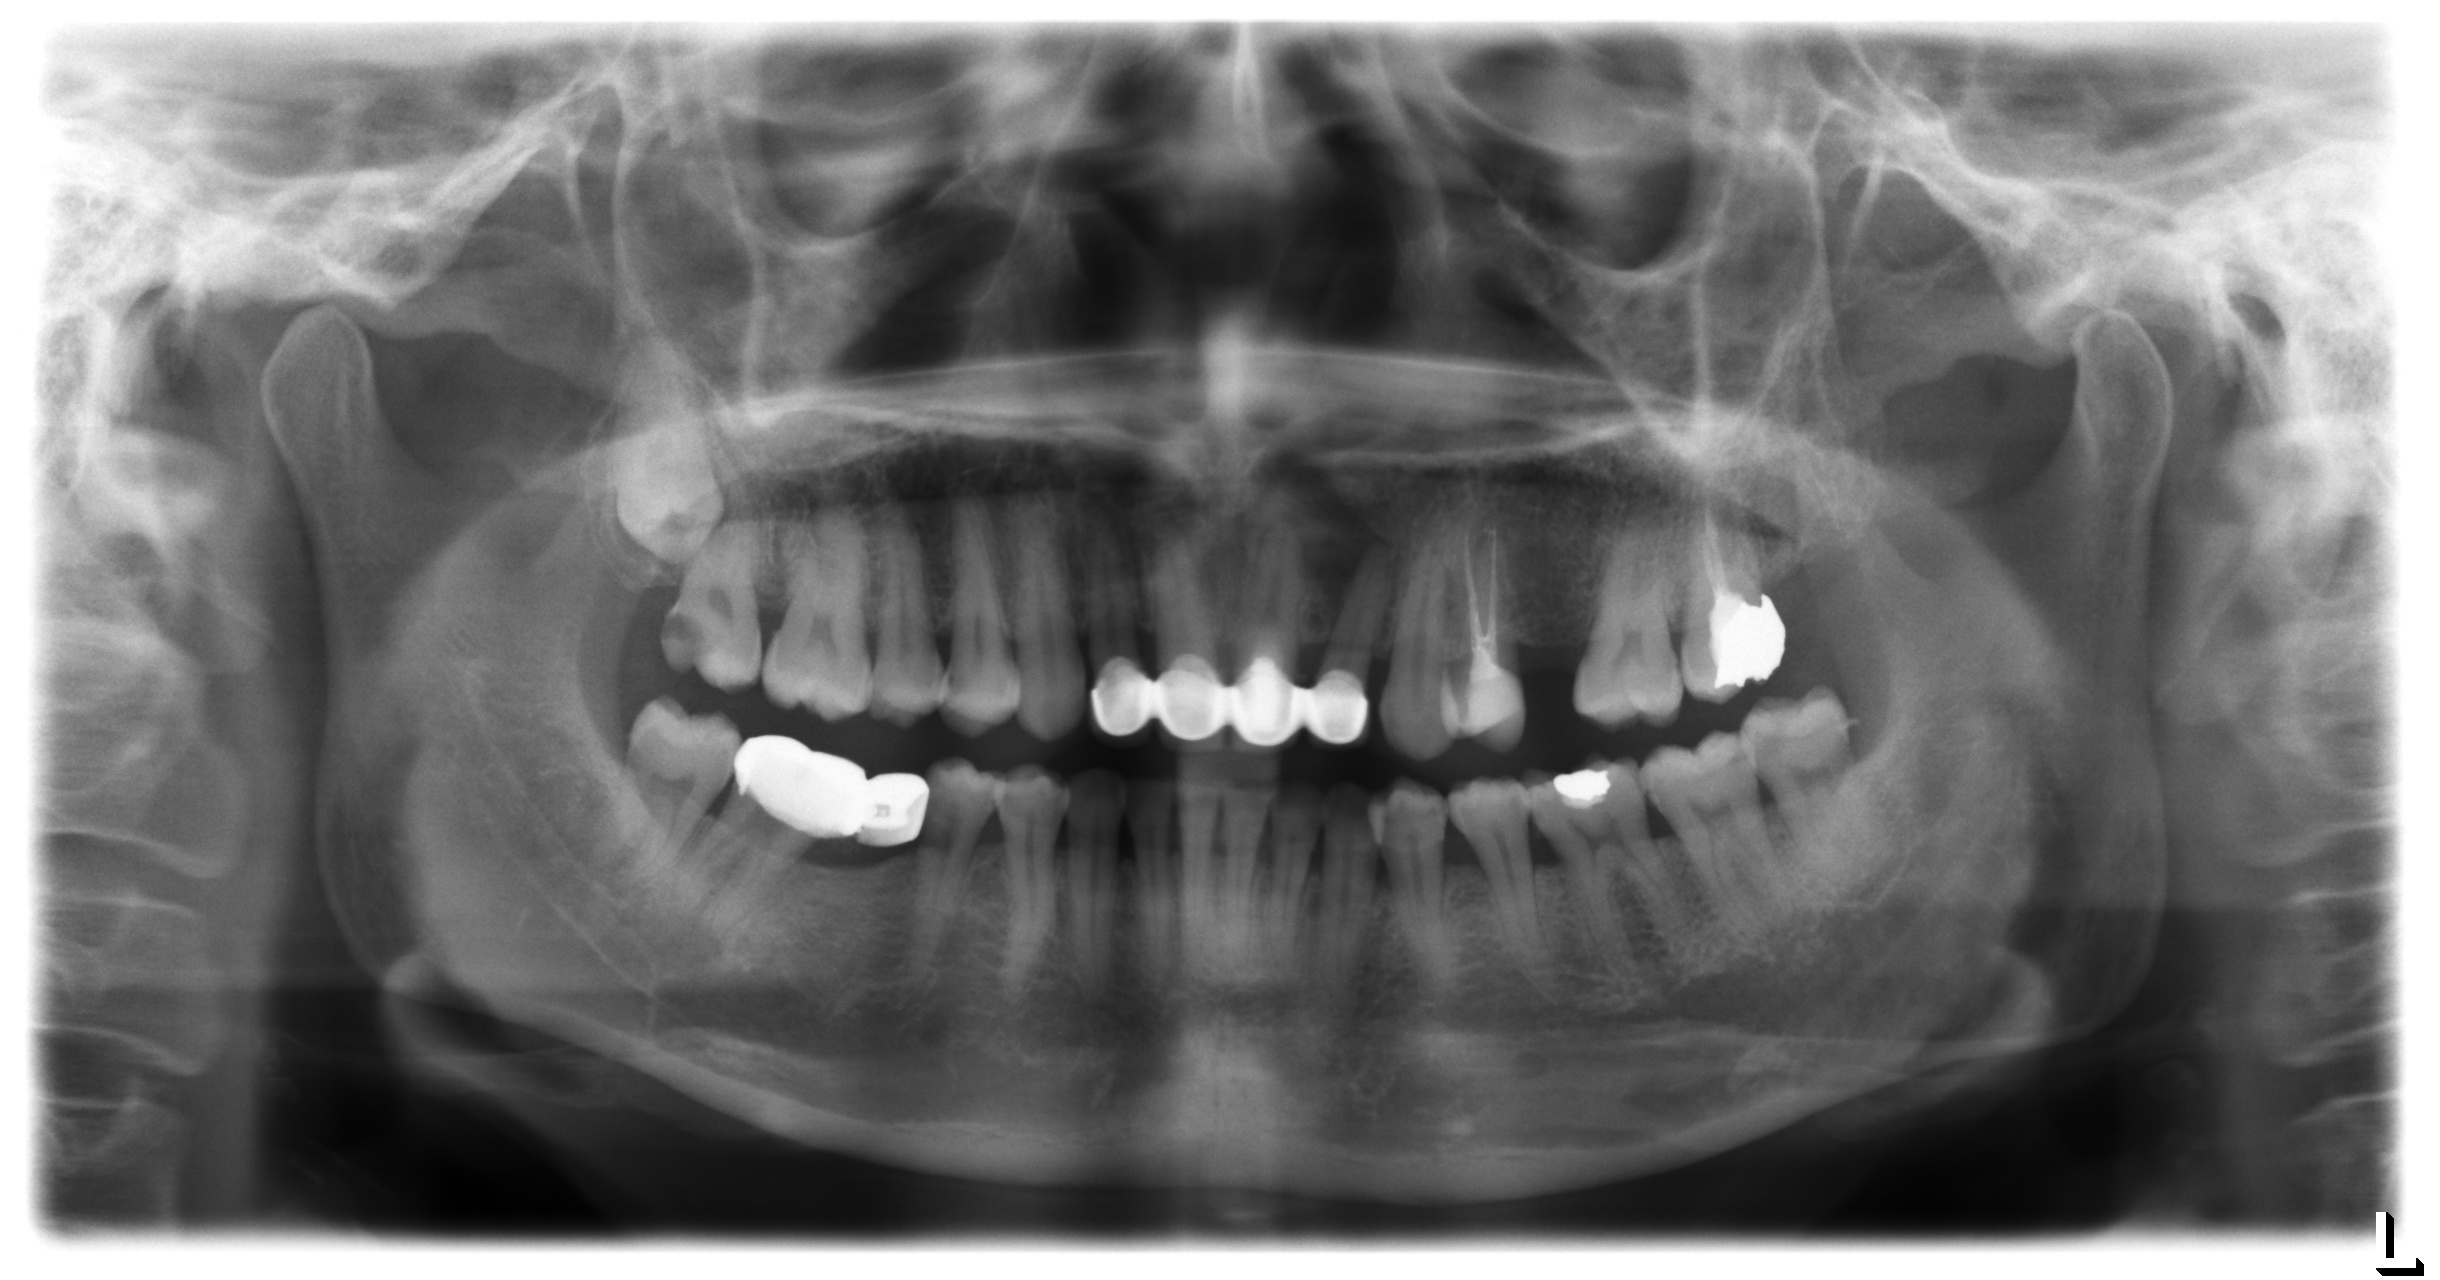Decay: (657, 602, 720, 673)
